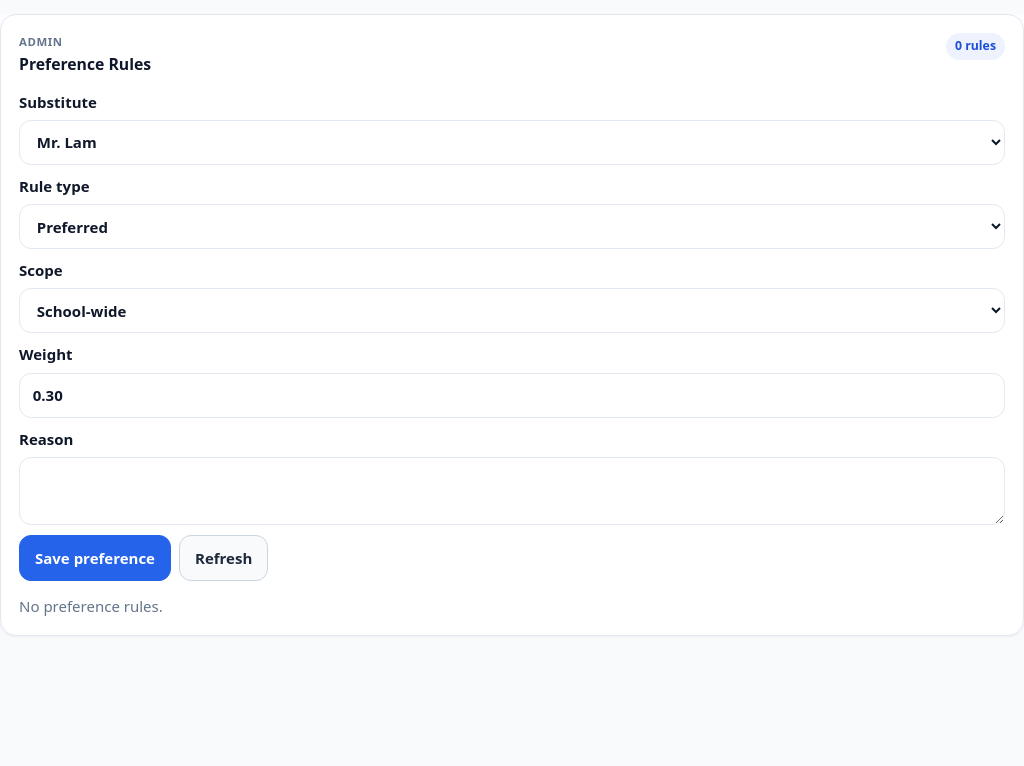
Test: PreferenceRulesPanel › saves a scoped preferred substitute rule through the API seam
Select "Soft avoid" in the dropdown named "Preference rule type" at (512, 227), box [19,204,1005,249]
Select "Subject + grade" in the dropdown named "Preference scope" at (512, 311), box [19,288,1005,334]
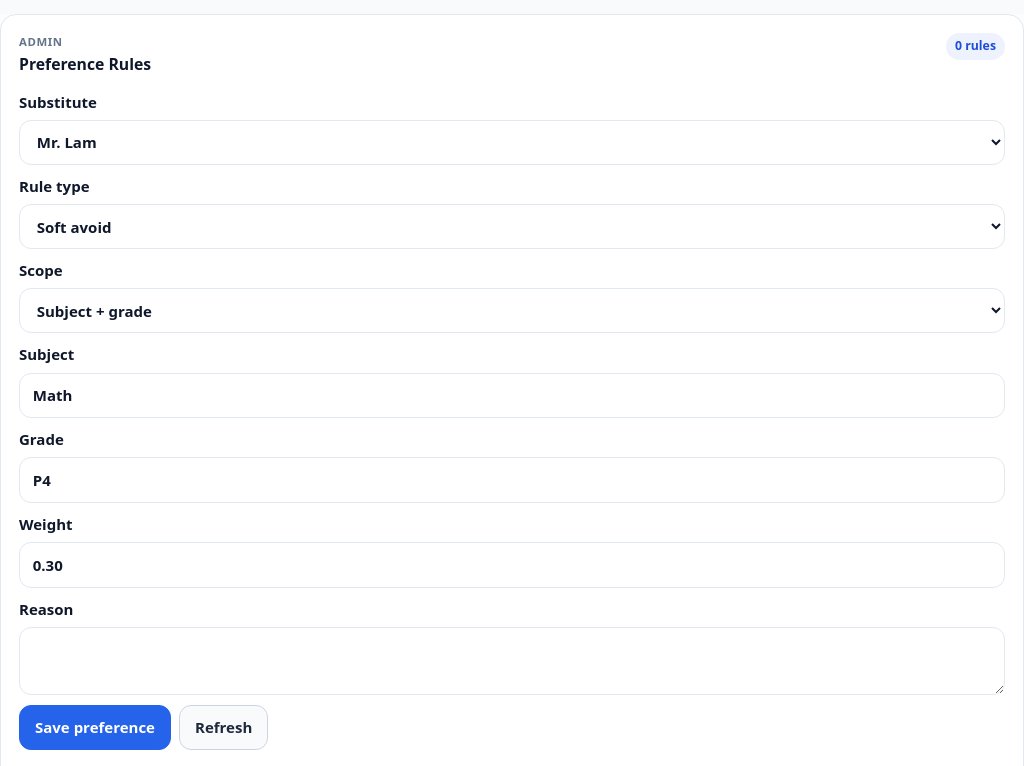
Replace the text in the field named "Preference subject" with "Science" at (512, 395), box [19,373,1005,418]
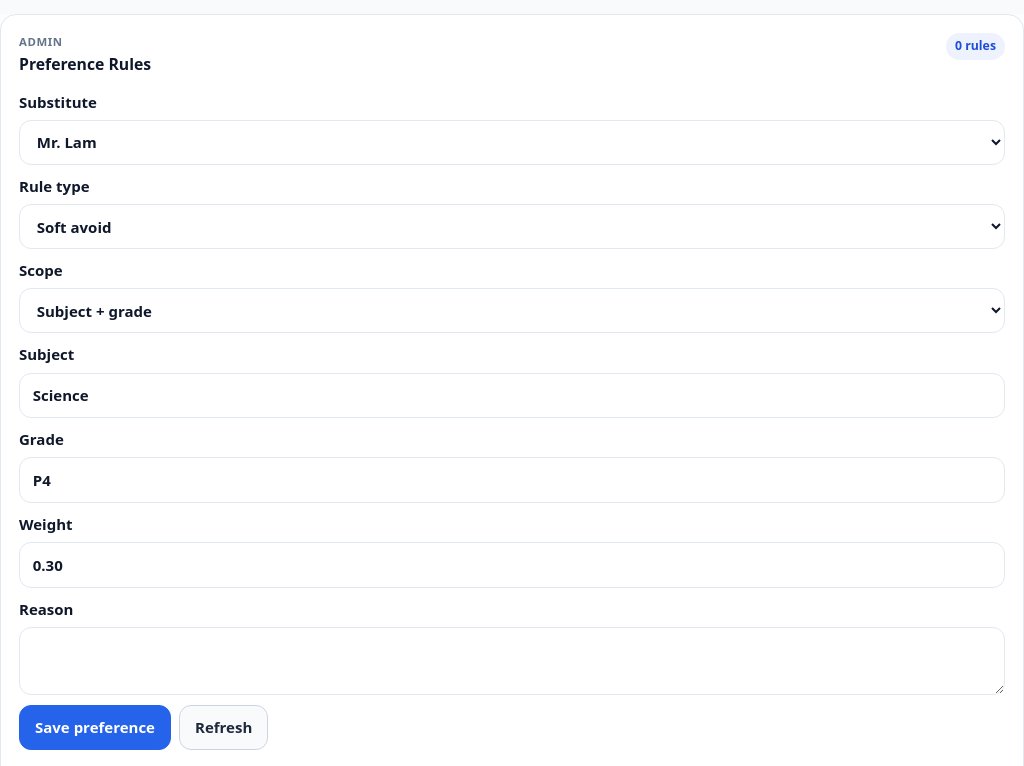
Replace the text in the field named "Preference grade" with "P5" at (512, 480), box [19,458,1005,503]
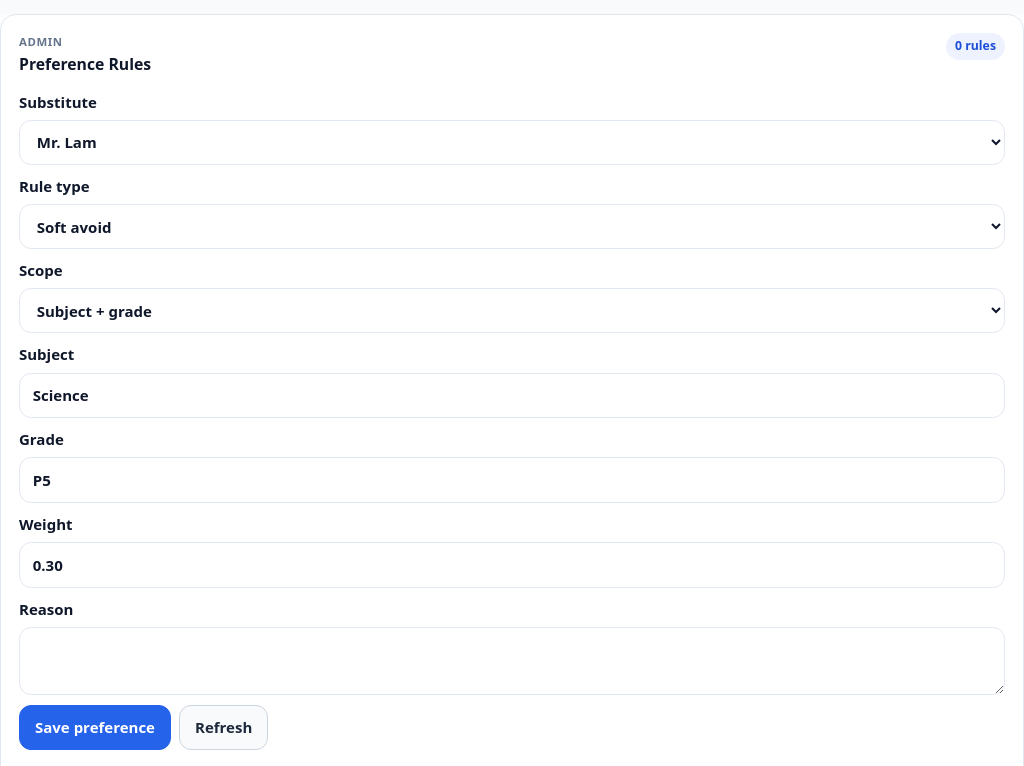
Replace the text in the number field named "Preference weight" with "0.45" at (512, 565), box [19,542,1005,588]
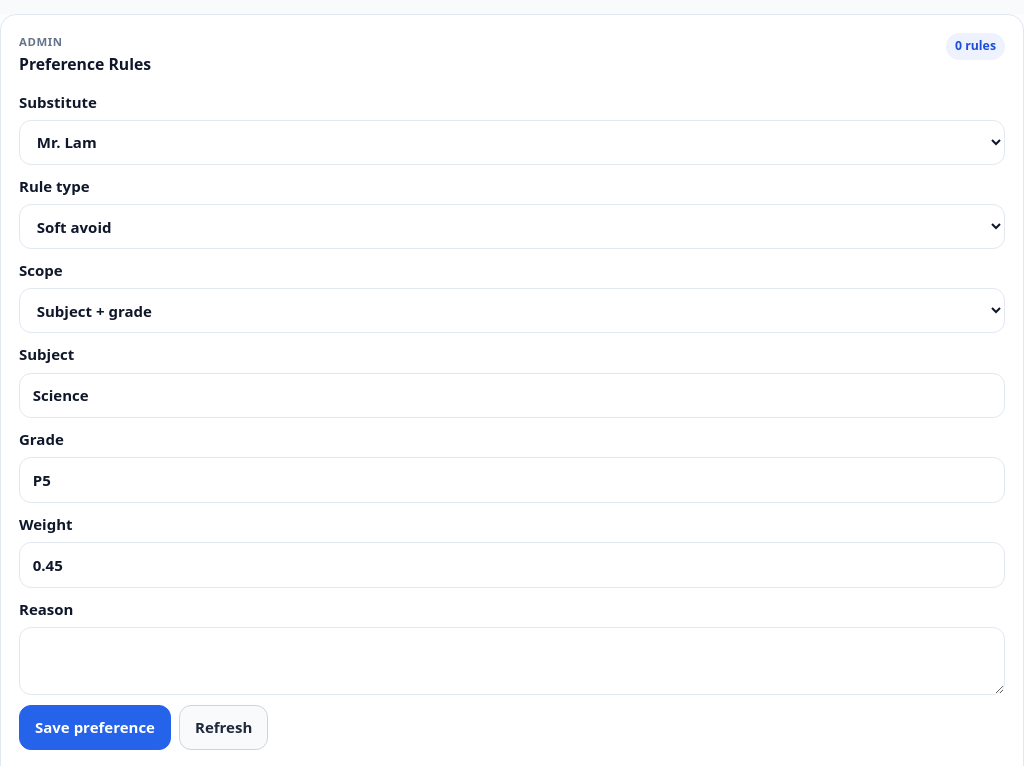
Type "Avoid for upper science" into the text box named "Preference reason".
click(512, 661); type("Avoid for upper science")  # box [19,627,1005,695]
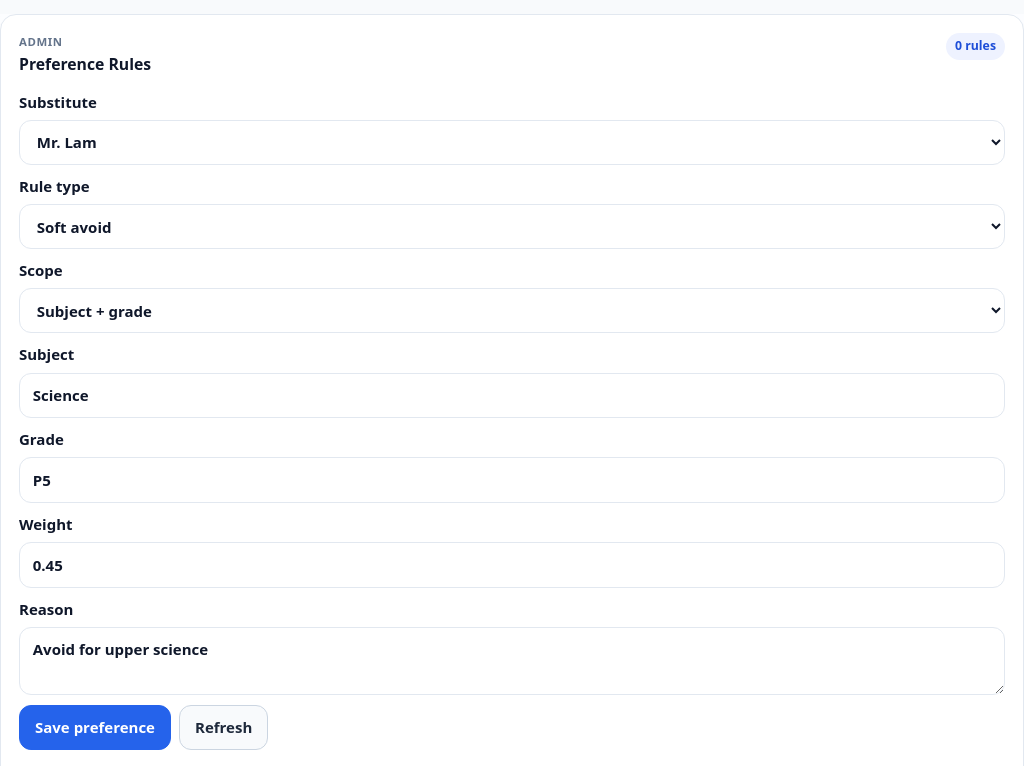
Click the button "Save preference".
click(95, 728)  # box [19,705,171,750]
(page scrolled)
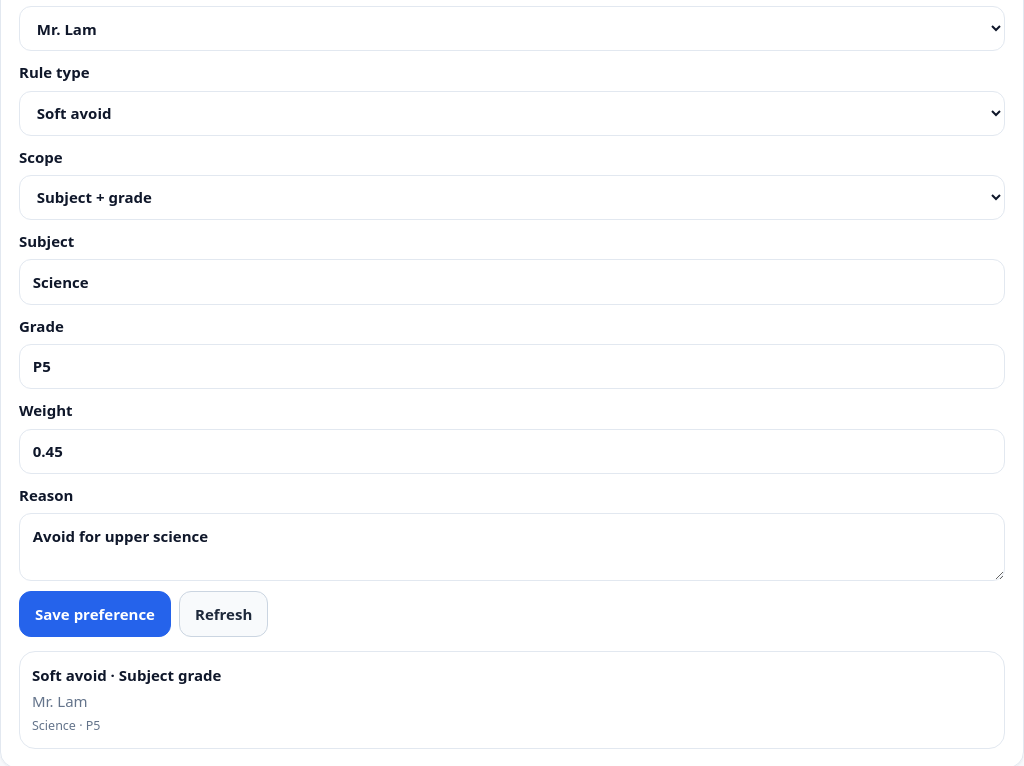
Check: the element named "Preference rule list" shows "Soft avoid", box [32,665,107,685]
